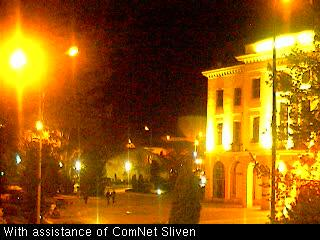person: (105, 190, 111, 206), (83, 189, 89, 205), (112, 190, 116, 205)
